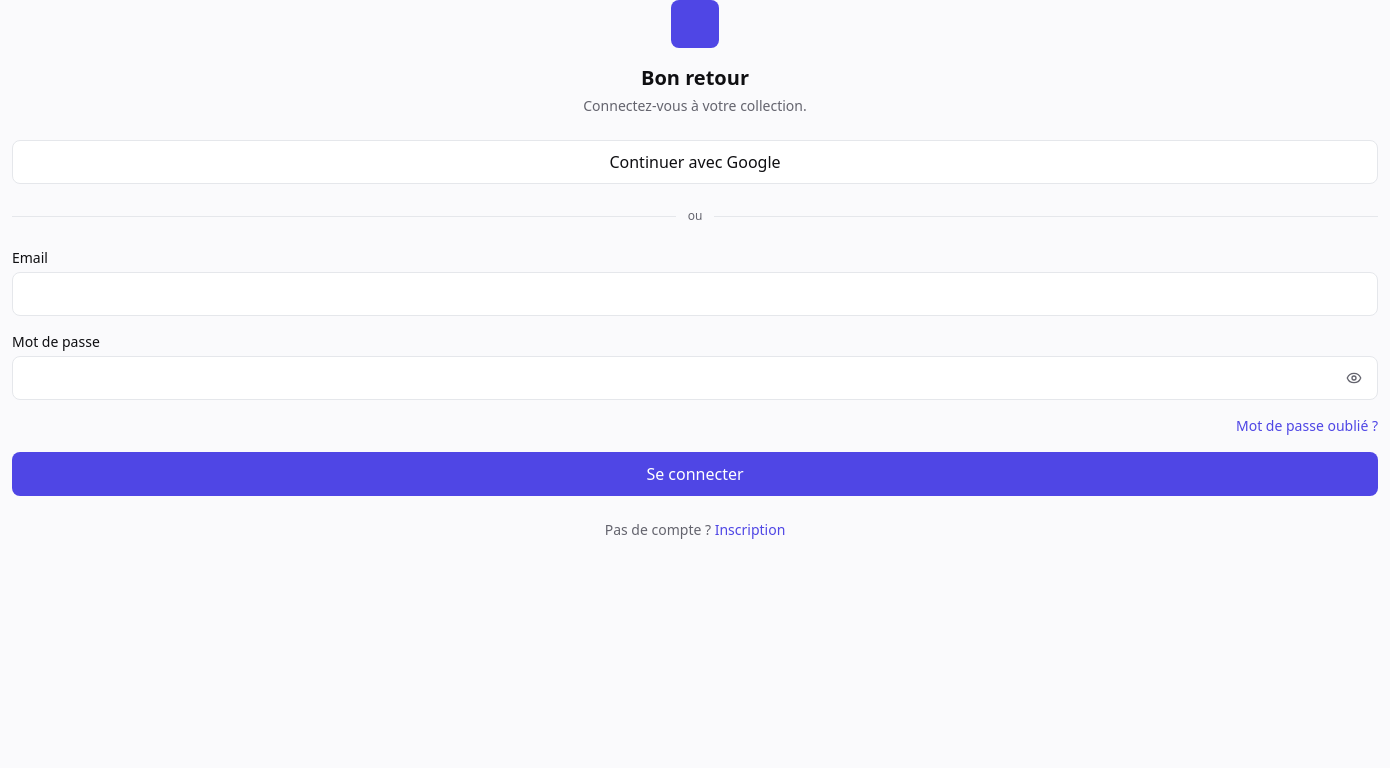
LoginPage › surfaces a toast when the OAuth provider is not configured
Click the button "Continuer avec Google" at (695, 162), box left=12, top=140, right=1378, bottom=184
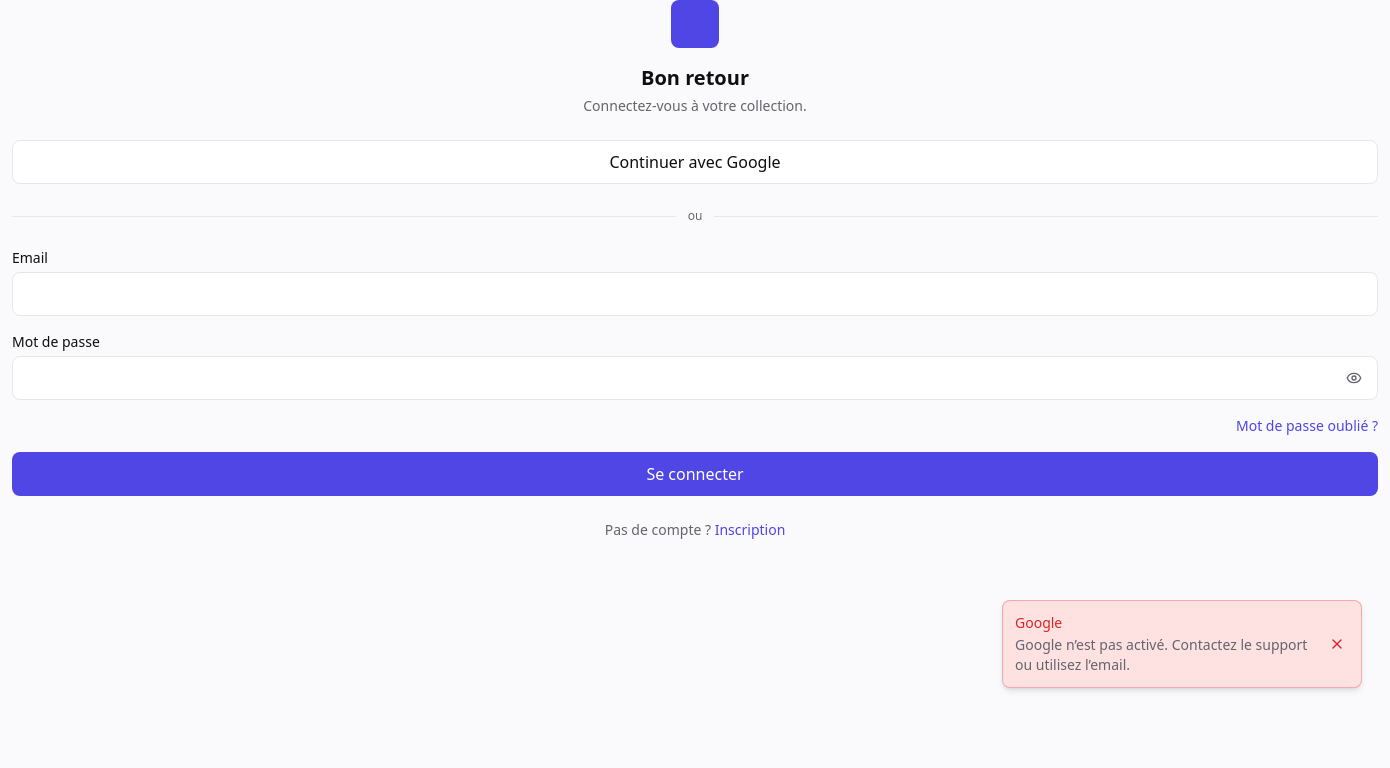
Expected: the text "Google n’est pas activé" is shown, left=1015, top=635, right=1307, bottom=674
